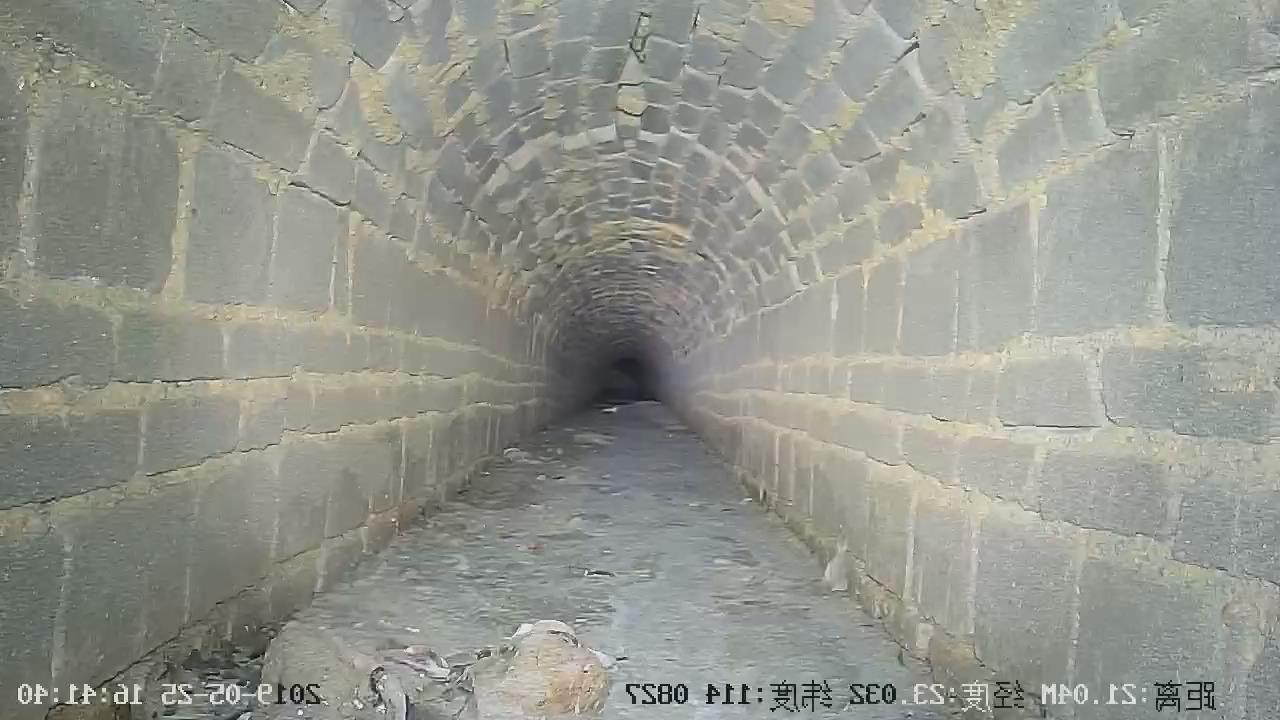JG: (258, 402, 949, 719)
